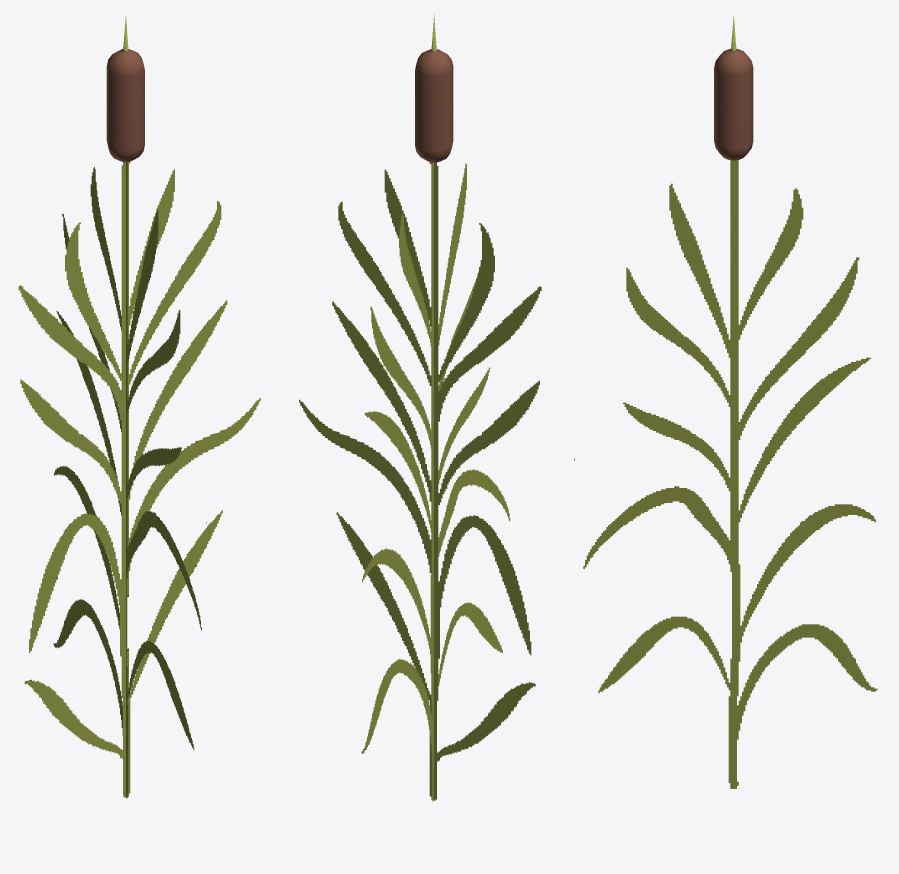
File: CatTail_2.gltf
The picture shows the model from 3 angles, left to right: view 1: azimuth 30°, elevation 25°; view 2: azimuth 150°, elevation 25°; view 3: azimuth 270°, elevation 25°; orthographic projection.
Visible parts, largest first — view 1: Cat_Tail_2; view 2: Cat_Tail_2; view 3: Cat_Tail_2.
Boxes of the visible parts, x1,y1,x2,y2 form: Cat_Tail_2: (18,15,260,798); Cat_Tail_2: (299,14,541,801); Cat_Tail_2: (574,15,877,788).
Bounding box in the file's own units: 53.39 × 160 × 57.78.
1 material, 1 textured.
